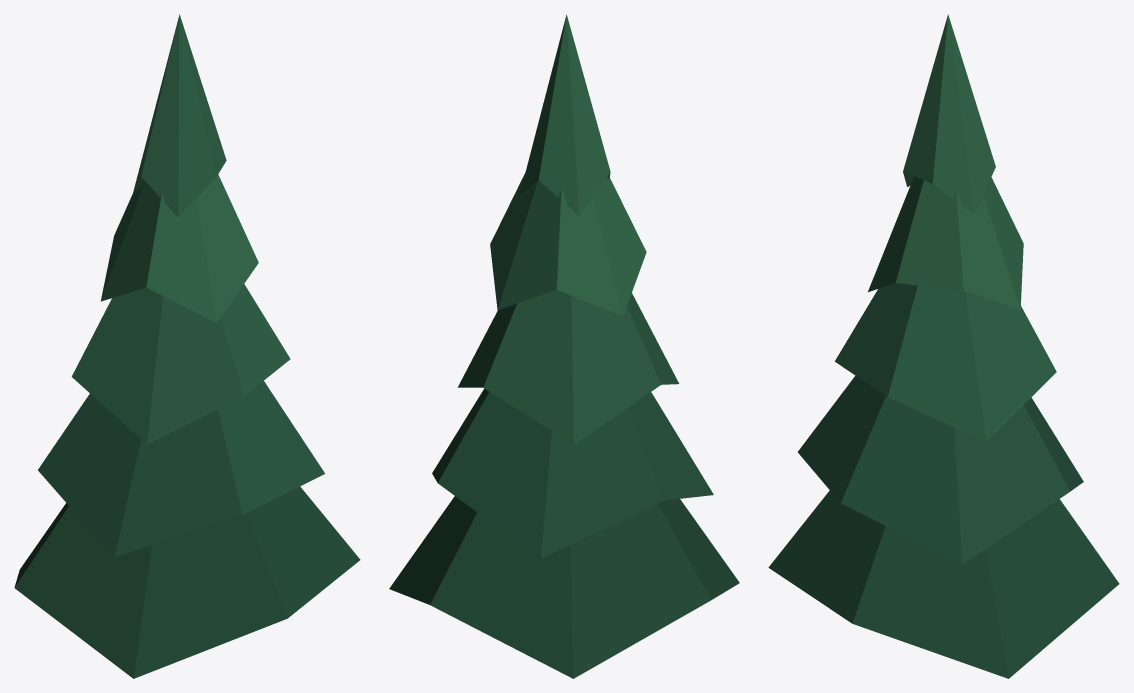
The model's file is tree-spruce.glb.
3 views of the same model, side by side, from view 1: azimuth 30°, elevation 25°; view 2: azimuth 150°, elevation 25°; view 3: azimuth 270°, elevation 25° (orthographic).
Parts seen in each view (by area): view 1: tree; view 2: tree; view 3: tree.
Boxes of the visible parts, x1,y1,x2,y2 form: tree: [14, 14, 360, 678]; tree: [389, 14, 739, 678]; tree: [768, 14, 1119, 678].
Bounding box in the file's own units: 0.1898 × 0.37 × 0.1899.
